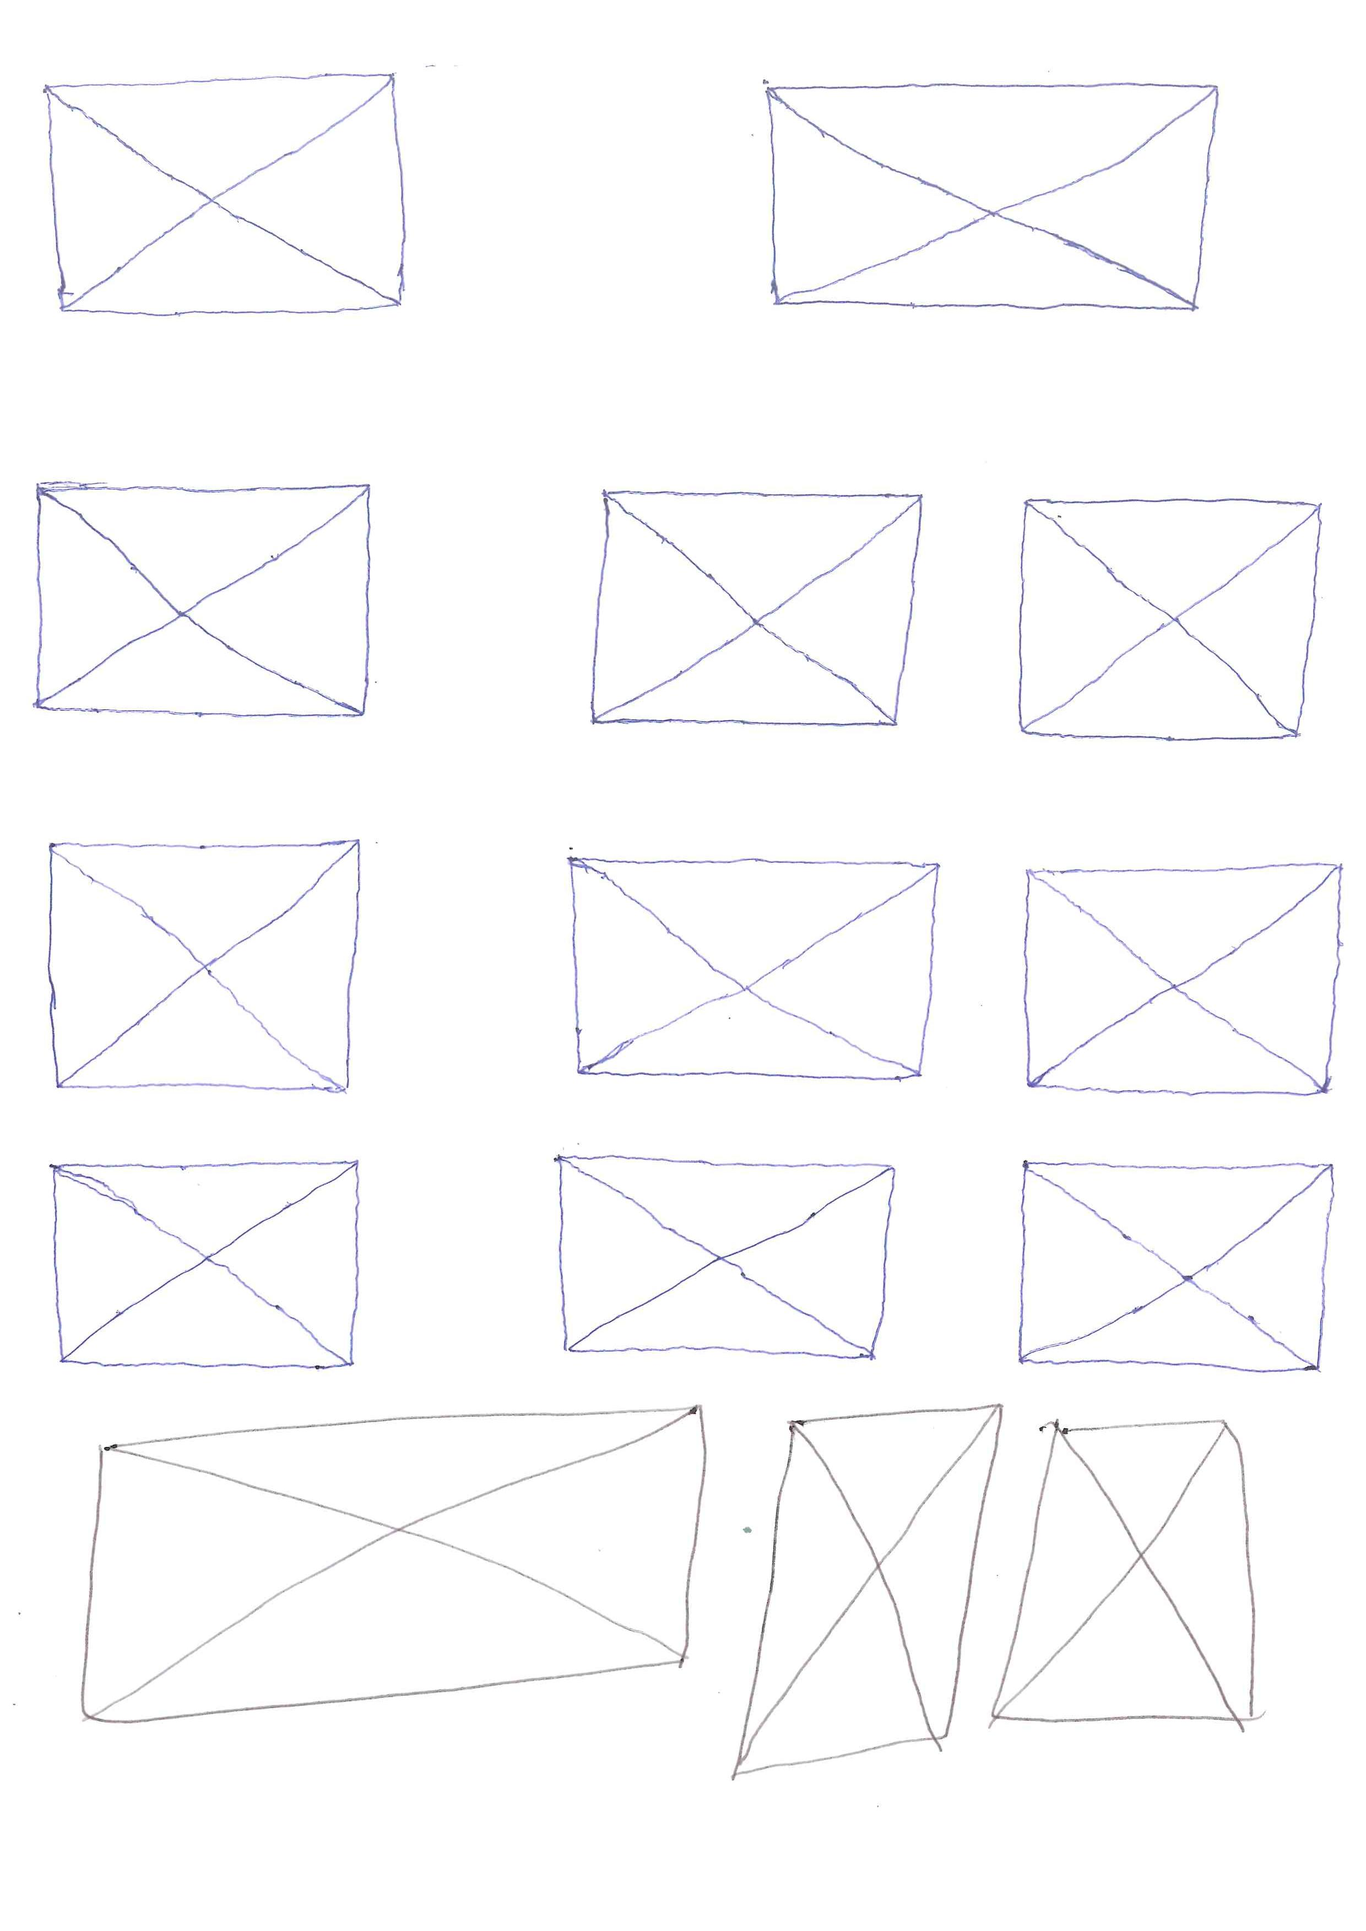Image: (81, 1406, 711, 1725), (764, 77, 1221, 312), (729, 1399, 1005, 1782), (41, 67, 410, 319), (568, 856, 942, 1084), (584, 486, 925, 730), (990, 1419, 1264, 1724), (33, 481, 377, 722), (46, 835, 362, 1094), (1013, 495, 1326, 744), (1022, 861, 1345, 1099), (556, 1152, 896, 1360), (1014, 1161, 1336, 1374), (46, 1156, 362, 1372)
